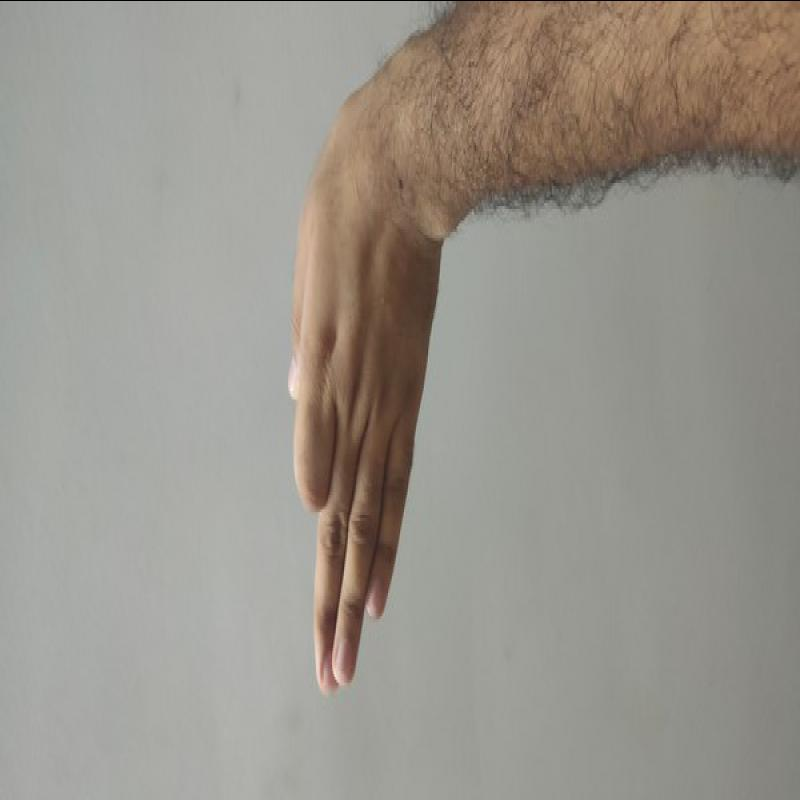Mudraakhyam: (268, 179, 450, 725)
